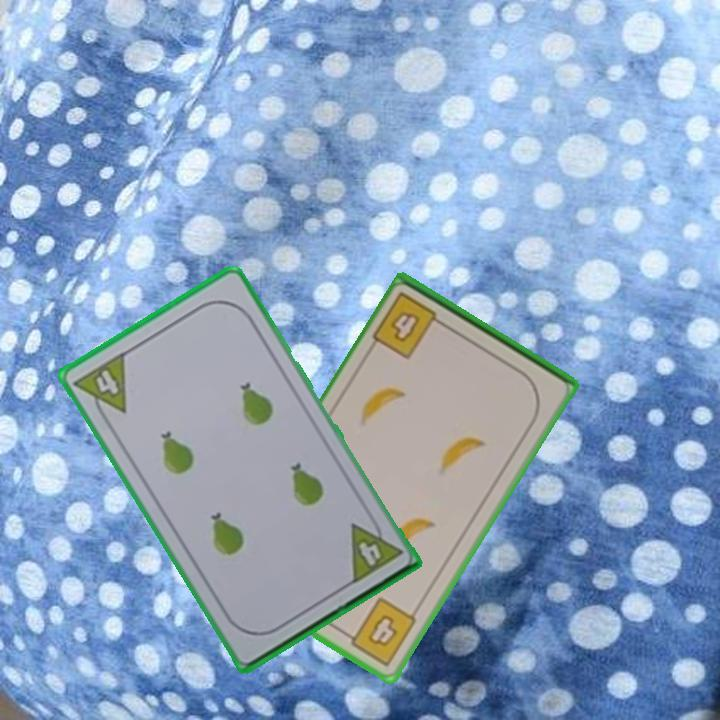4b: (340, 593, 420, 670), (369, 288, 451, 363)
4p: (70, 348, 130, 426), (346, 511, 405, 587)
